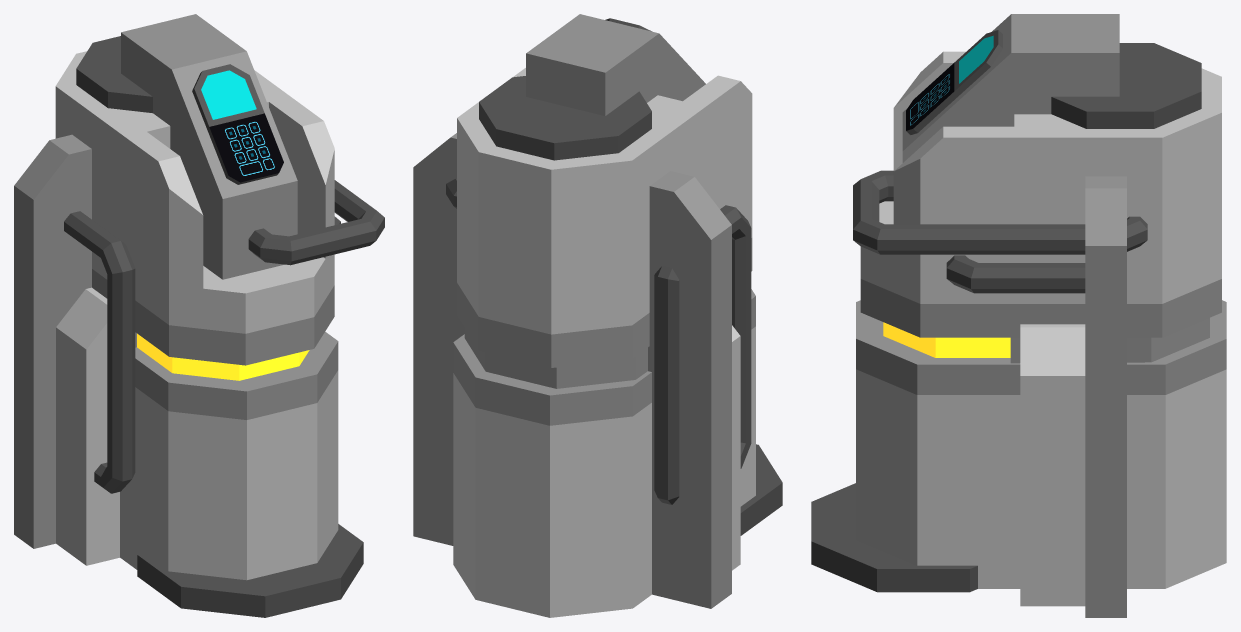
Rendered from SM_Machine_1.fbx.
The picture shows the model from 3 angles, left to right: view 1: azimuth 30°, elevation 25°; view 2: azimuth 150°, elevation 25°; view 3: azimuth 270°, elevation 25°; orthographic projection. The views are drawn at different scales.
Parts seen in each view (by area): view 1: SM_Machine_1; view 2: SM_Machine_1; view 3: SM_Machine_1.
Boxes of the visible parts, x1,y1,x2,y2 form: SM_Machine_1: (14,14,384,617); SM_Machine_1: (413,14,782,617); SM_Machine_1: (811,14,1226,617).
Bounding box in the file's own units: 88.01 × 143 × 105.
